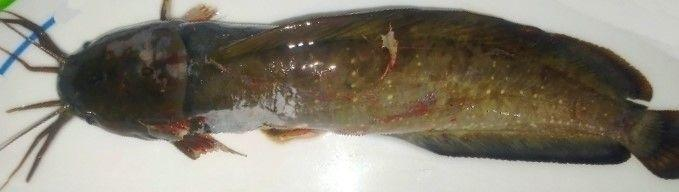Catfish: (2, 0, 679, 192)
